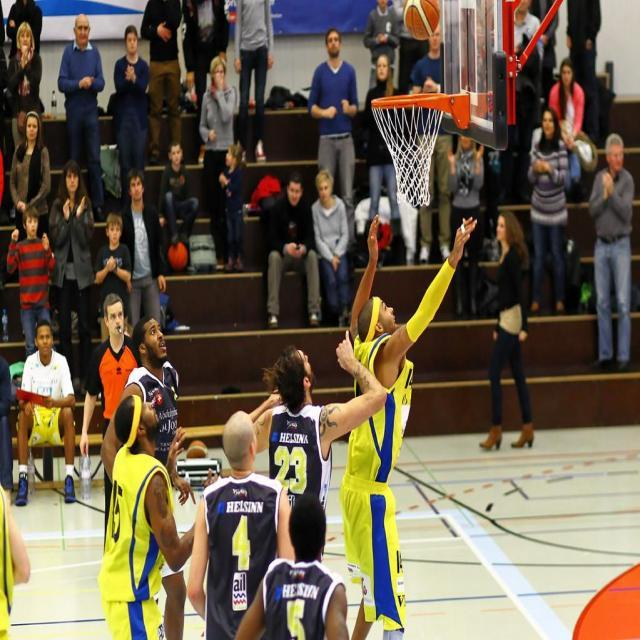rim: (402, 0, 442, 39)
